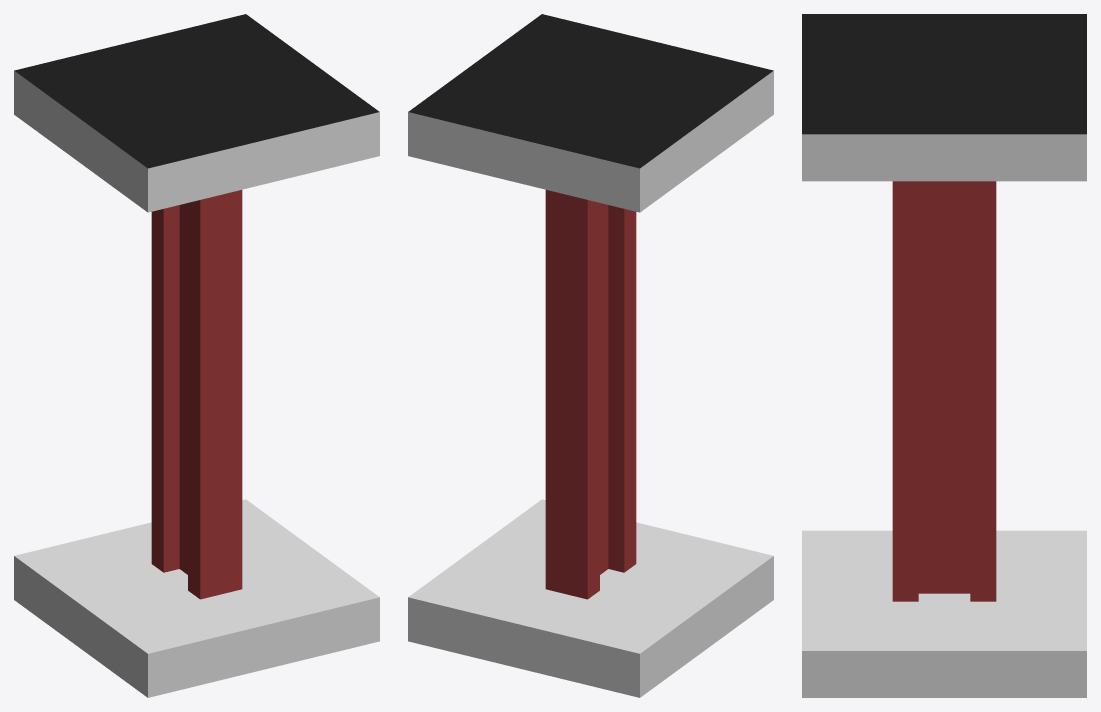
Rendered from Building_Skeleton.fbx.
3 renders of one model, left to right at view 1: azimuth 30°, elevation 25°; view 2: azimuth 150°, elevation 25°; view 3: azimuth 270°, elevation 25°, orthographic. The views are drawn at different scales.
Parts seen in each view (by area): view 1: pCube26; view 2: pCube26; view 3: pCube26.
Boxes of the visible parts, bbox=[...] form: pCube26: bbox=[14, 14, 379, 697]; pCube26: bbox=[408, 14, 773, 697]; pCube26: bbox=[802, 14, 1086, 697].
Bounding box in the file's own units: 100 × 218 × 100.
